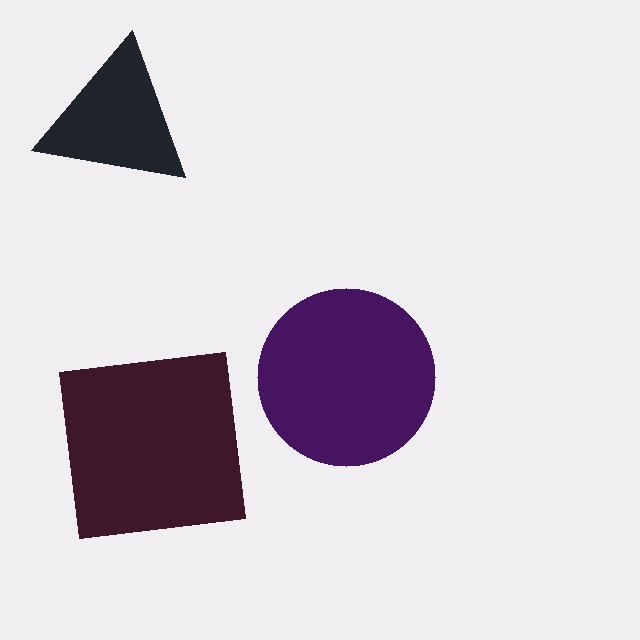circle: (257, 288, 435, 467)
square: (59, 351, 245, 538)
triangle: (30, 30, 186, 178)
